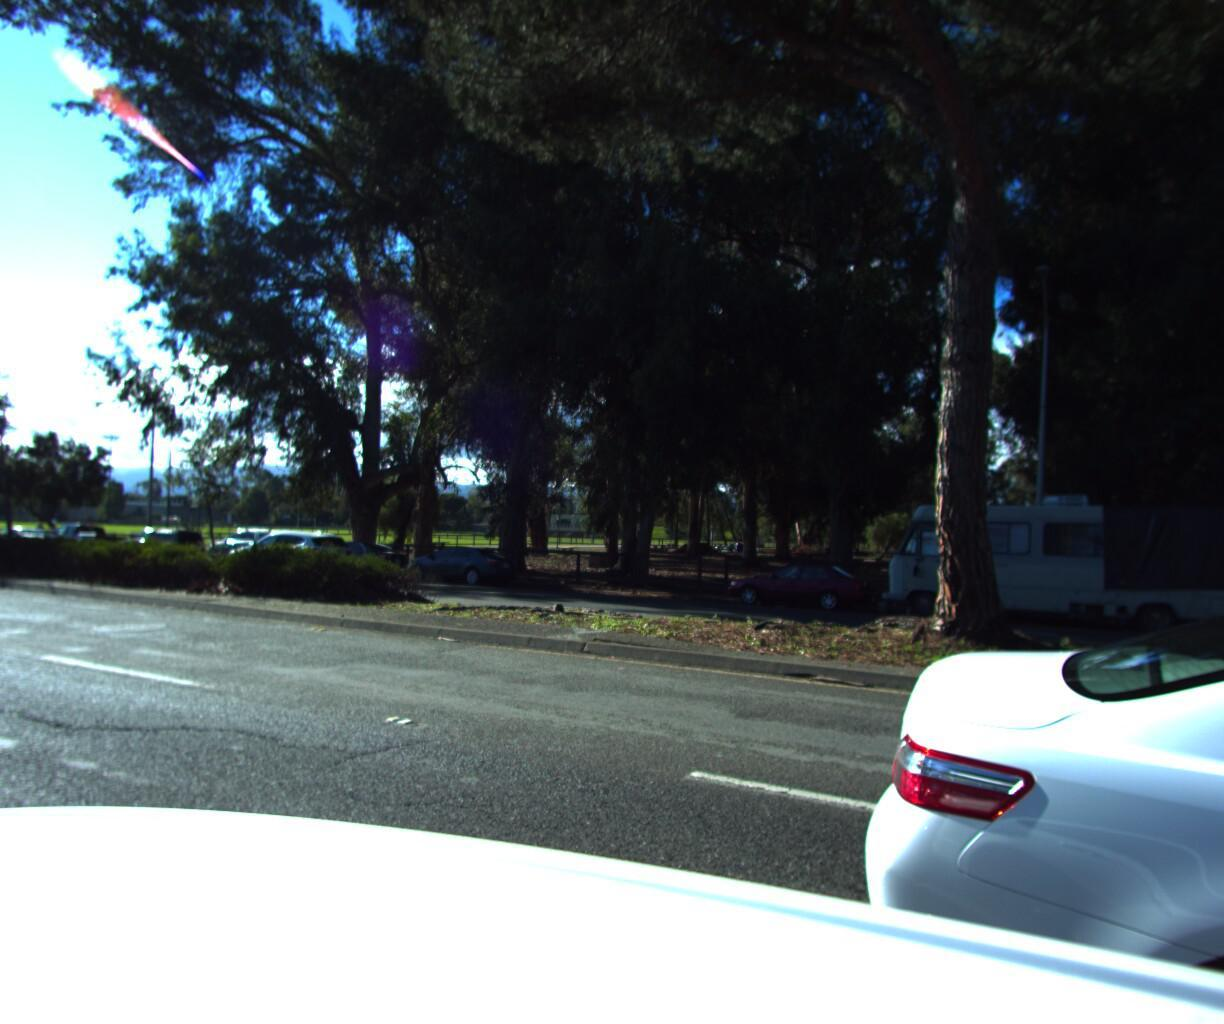car: (216, 523, 361, 593), (716, 553, 882, 610), (395, 539, 524, 584), (196, 521, 309, 567), (294, 534, 415, 576), (112, 518, 210, 559)
other_vehicle: (872, 484, 1224, 644)
